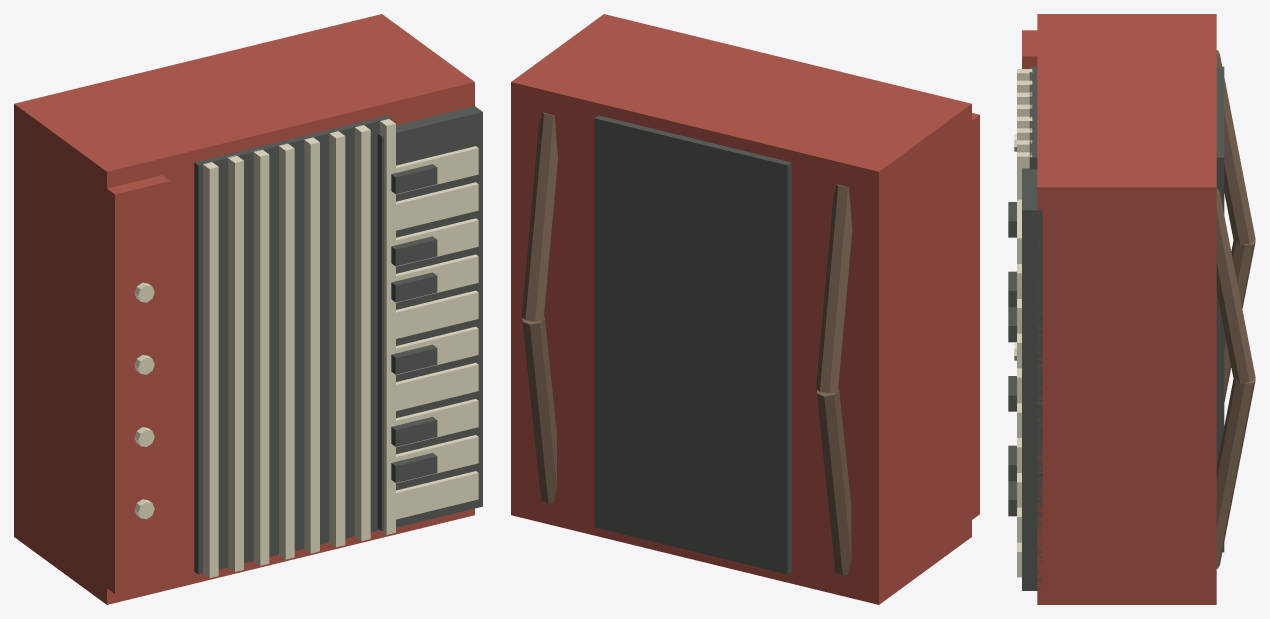
The model's file is Accordion.fbx.
3 renders of one model, left to right at view 1: azimuth 30°, elevation 25°; view 2: azimuth 150°, elevation 25°; view 3: azimuth 270°, elevation 25°, orthographic. The views are drawn at different scales.
Parts seen in each view (by area): view 1: Accordion_Geometry; view 2: Accordion_Geometry; view 3: Accordion_Geometry.
Part boxes in pixels (x1,y1,x2,y2): Accordion_Geometry: [14, 14, 482, 604]; Accordion_Geometry: [511, 14, 979, 604]; Accordion_Geometry: [1008, 14, 1255, 604].
Bounding box in the file's own units: 80 × 90 × 48.31.
